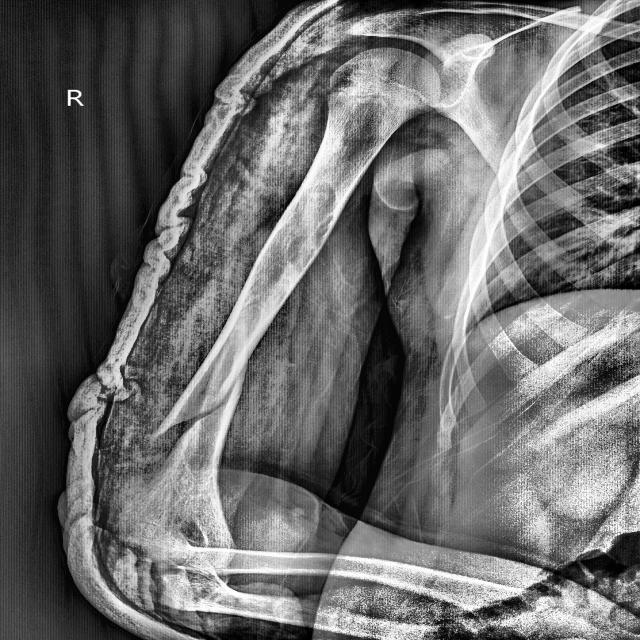Fracture: (138, 359, 255, 470)
